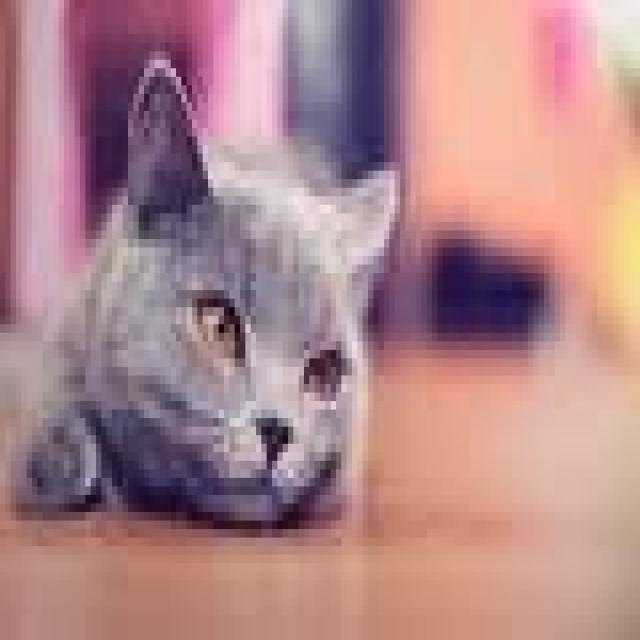animal: (1, 37, 447, 559)
